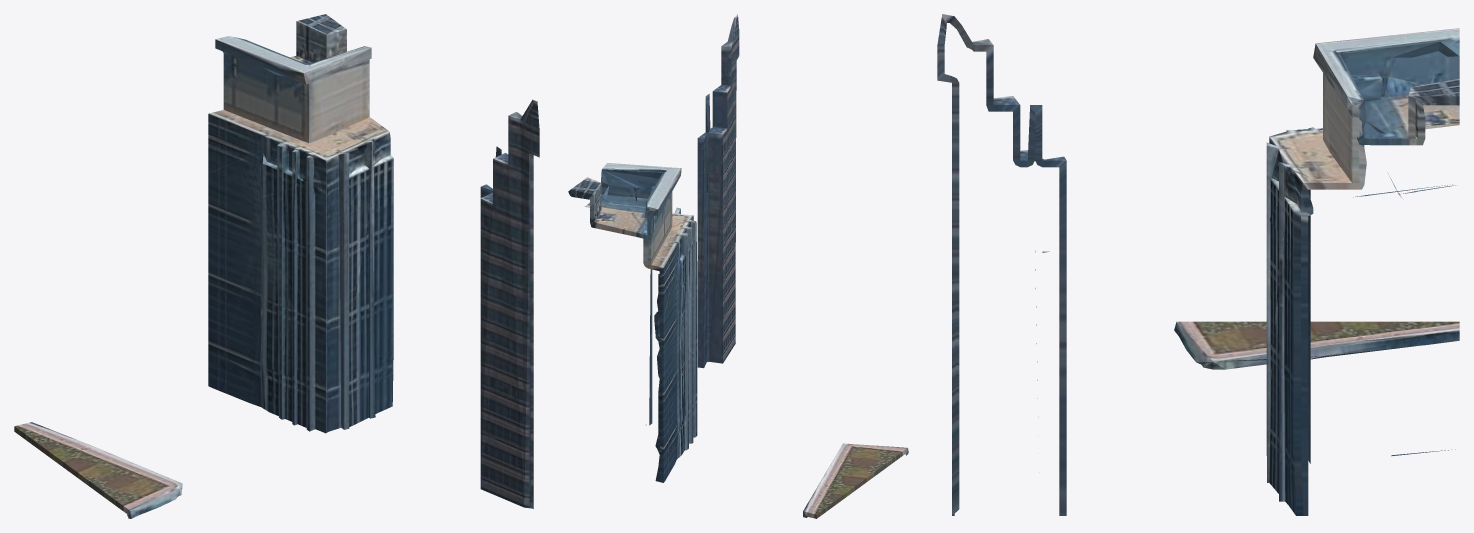
Rendered from chunk_1_8.glb.
3 views of the same model, side by side, from view 1: azimuth 30°, elevation 25°; view 2: azimuth 150°, elevation 25°; view 3: azimuth 270°, elevation 25° (orthographic). The views are drawn at different scales.
Parts seen in each view (by area): view 1: hero-chunk; view 2: hero-chunk; view 3: hero-chunk.
Part boxes in pixels (left/top/right/bottom): hero-chunk: left=14, top=14, right=539, bottom=518; hero-chunk: left=568, top=14, right=908, bottom=518; hero-chunk: left=937, top=14, right=1459, bottom=515.
Size of the model in its own units: 56.66 by 70.19 by 65.86.
Materials: 1 (1 with a texture image).
